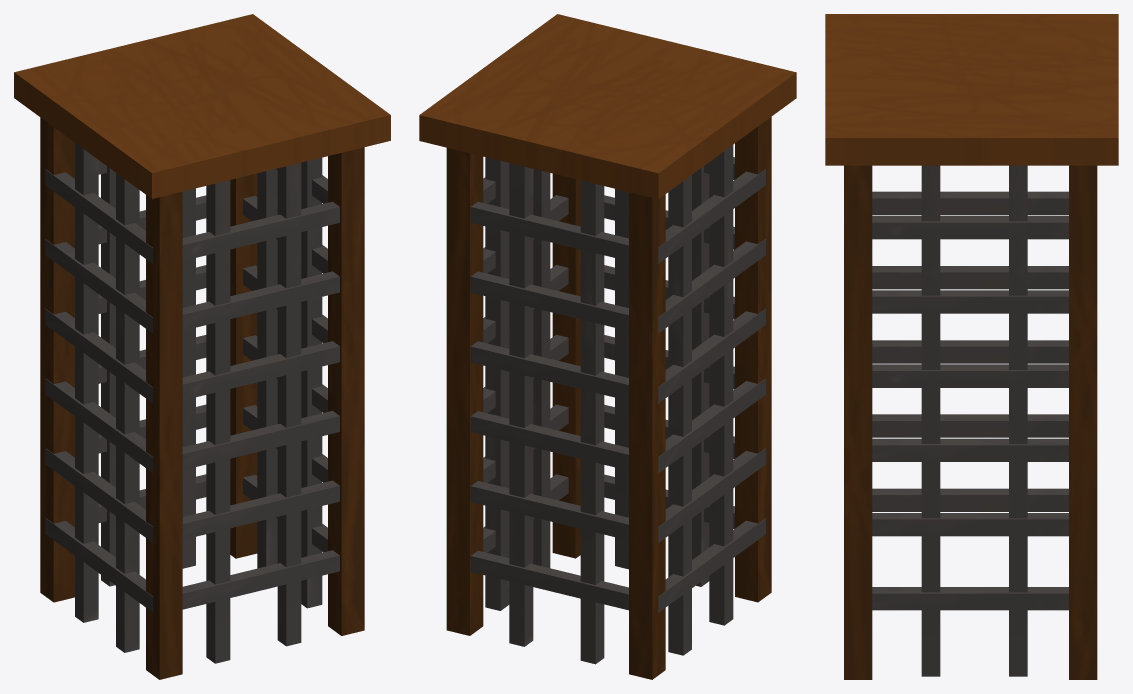
File: Cage.fbx
The picture shows the model from 3 angles, left to right: view 1: azimuth 30°, elevation 25°; view 2: azimuth 150°, elevation 25°; view 3: azimuth 270°, elevation 25°; orthographic projection. The views are drawn at different scales.
Parts seen in each view (by area): view 1: Cage; view 2: Cage; view 3: Cage.
Boxes of the visible parts, x1,y1,x2,y2 form: Cage: (14, 14, 390, 679); Cage: (419, 14, 796, 679); Cage: (825, 14, 1118, 679).
Bounding box in the file's own units: 251 × 520 × 251.
